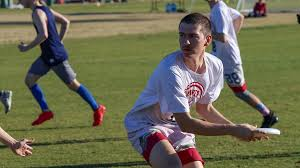disc: (250, 125, 280, 140)
